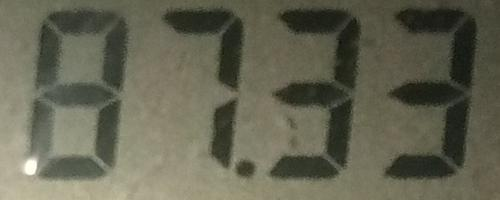.: (233, 157, 258, 180)
